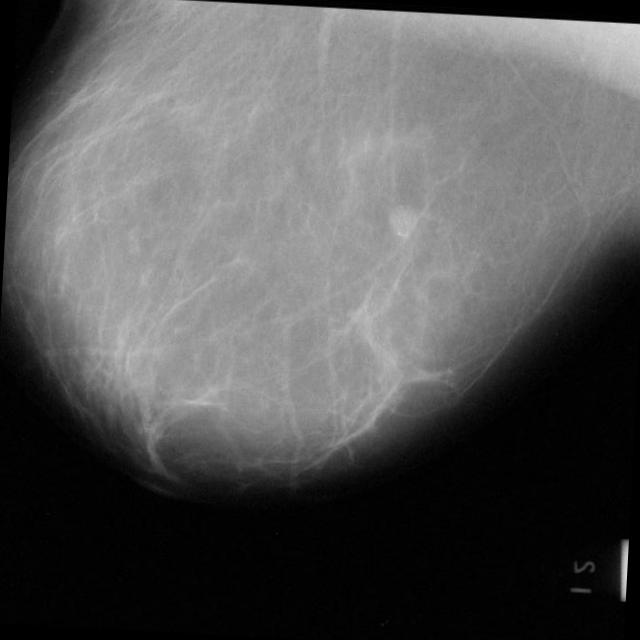CIRC: (386, 204, 420, 238)
